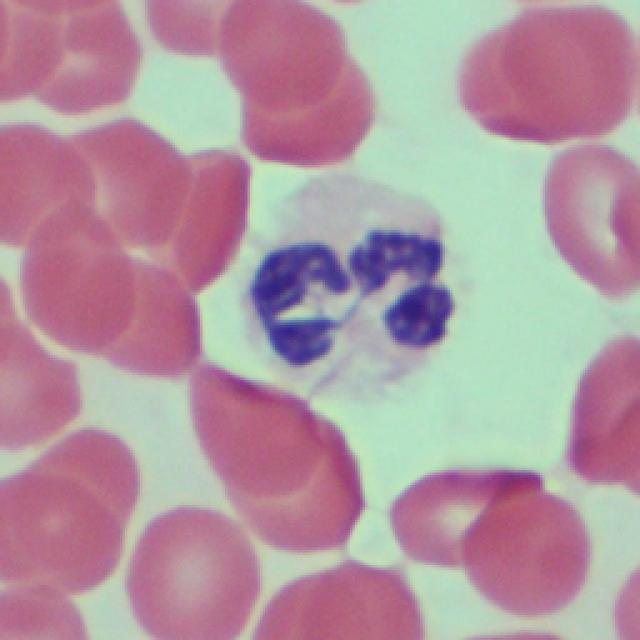RBC: (207, 383, 368, 555), (0, 412, 128, 628), (452, 0, 640, 140), (230, 2, 370, 176), (456, 465, 586, 622), (120, 501, 254, 640), (62, 114, 188, 256), (27, 196, 134, 354), (535, 141, 637, 303), (64, 252, 204, 370), (0, 0, 129, 115), (151, 139, 247, 280), (384, 463, 498, 574), (562, 332, 640, 492), (264, 560, 411, 640), (0, 110, 80, 252), (0, 302, 79, 439)
WBC: (256, 194, 450, 376)
